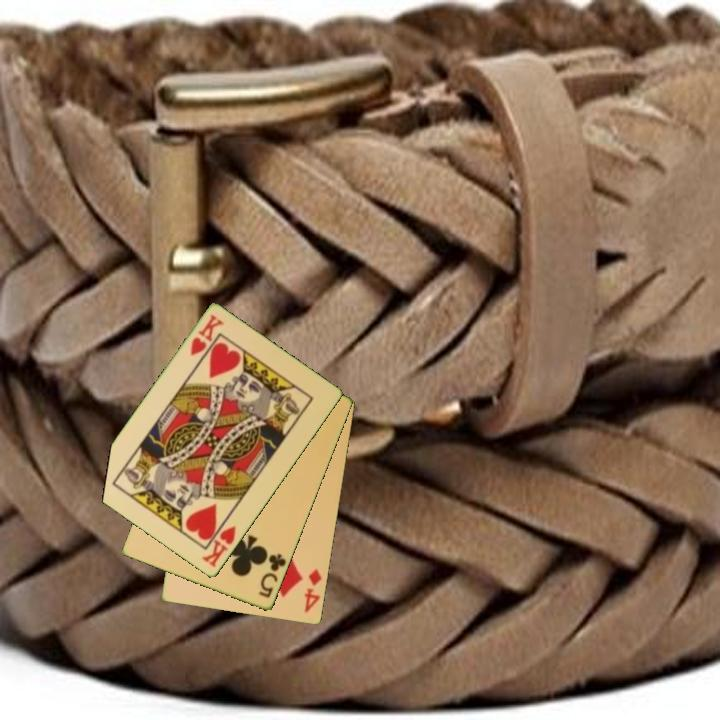4d: (301, 566, 325, 616)
5c: (255, 550, 289, 601)
Kh: (198, 515, 239, 571), (187, 311, 227, 359)
